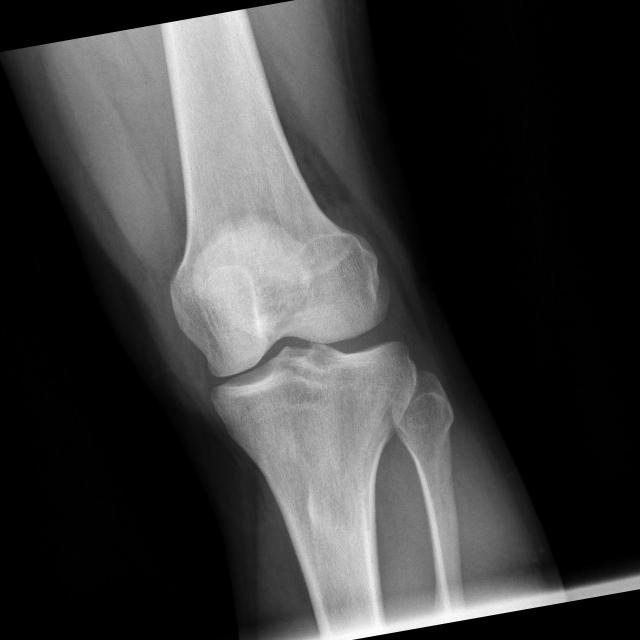Knee: (161, 226, 423, 459)
